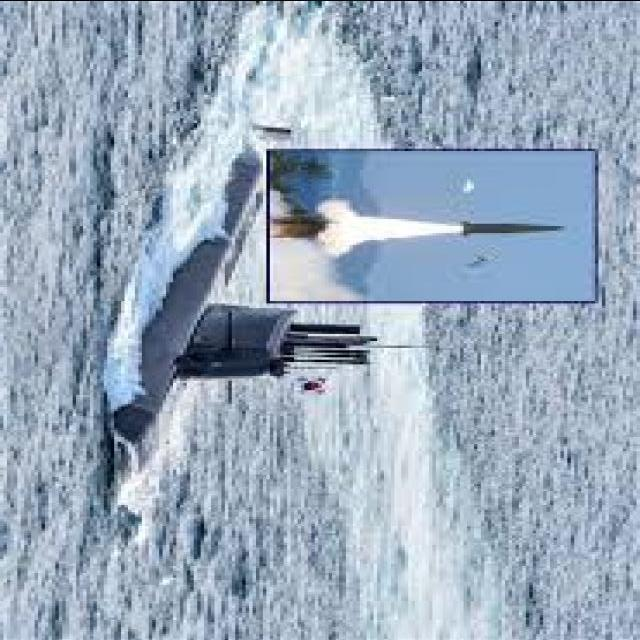Missile: (446, 218, 566, 236)
